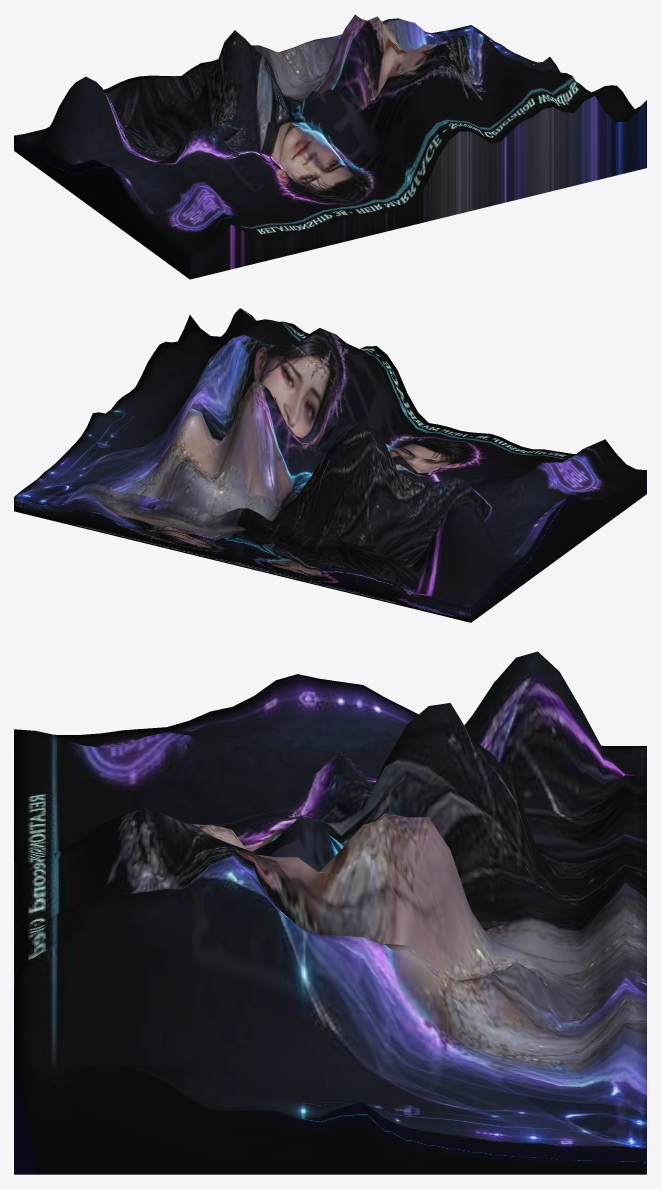
The model's file is RELATIONSHIP_38_Heir_Marriage.glb.
3 renders of one model, top to bottom at view 1: azimuth 30°, elevation 25°; view 2: azimuth 150°, elevation 25°; view 3: azimuth 270°, elevation 25°, orthographic. The views are drawn at different scales.
Visible parts, largest first — view 1: RELATIONSHIP_38_Heir_Marriage; view 2: RELATIONSHIP_38_Heir_Marriage; view 3: RELATIONSHIP_38_Heir_Marriage.
Part boxes in pixels (x1,y1,x2,y2): RELATIONSHIP_38_Heir_Marriage: (14, 14, 646, 279); RELATIONSHIP_38_Heir_Marriage: (14, 308, 646, 622); RELATIONSHIP_38_Heir_Marriage: (14, 651, 646, 1174).
Size of the model in its own units: 2 by 0.51 by 1.33.
1 material, 1 textured.
